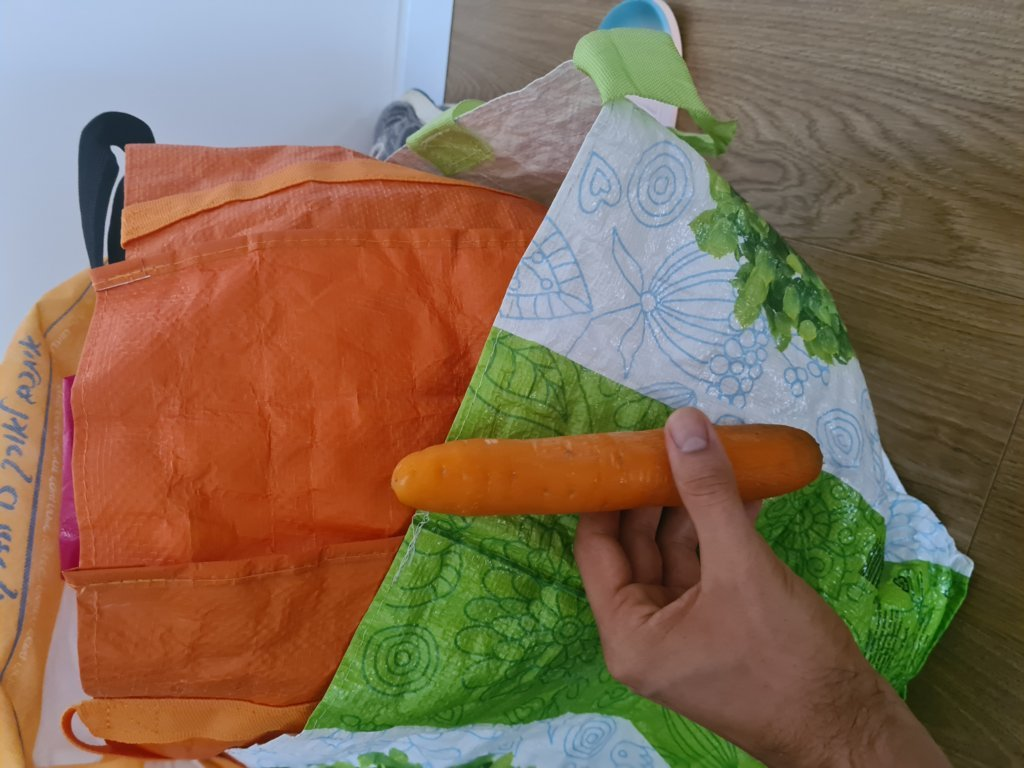carrot: (404, 428, 820, 503)
